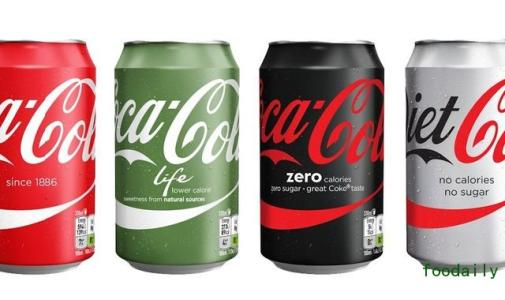coke_zero: (242, 24, 406, 290)
